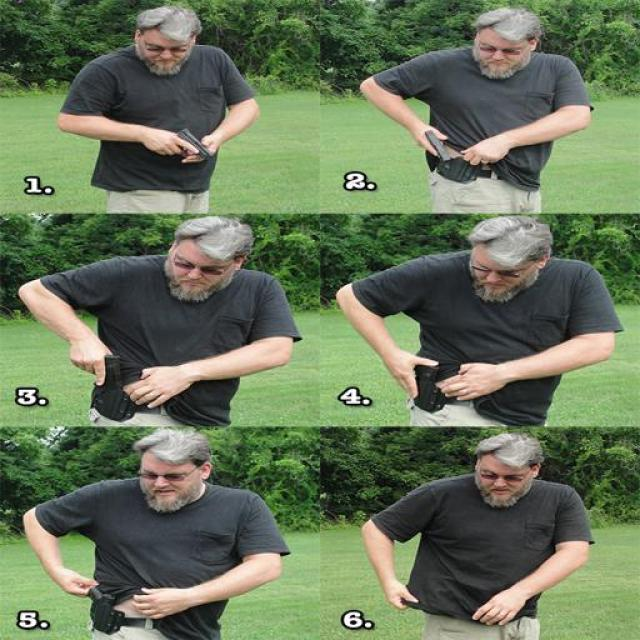pistol: (157, 127, 216, 161), (78, 585, 116, 631), (410, 360, 442, 414), (84, 354, 130, 389), (420, 130, 454, 164)
